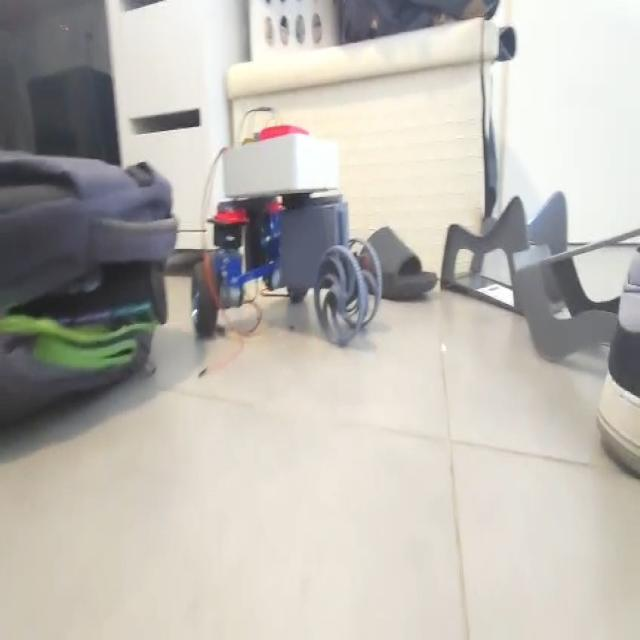Robot: (192, 121, 382, 346)
